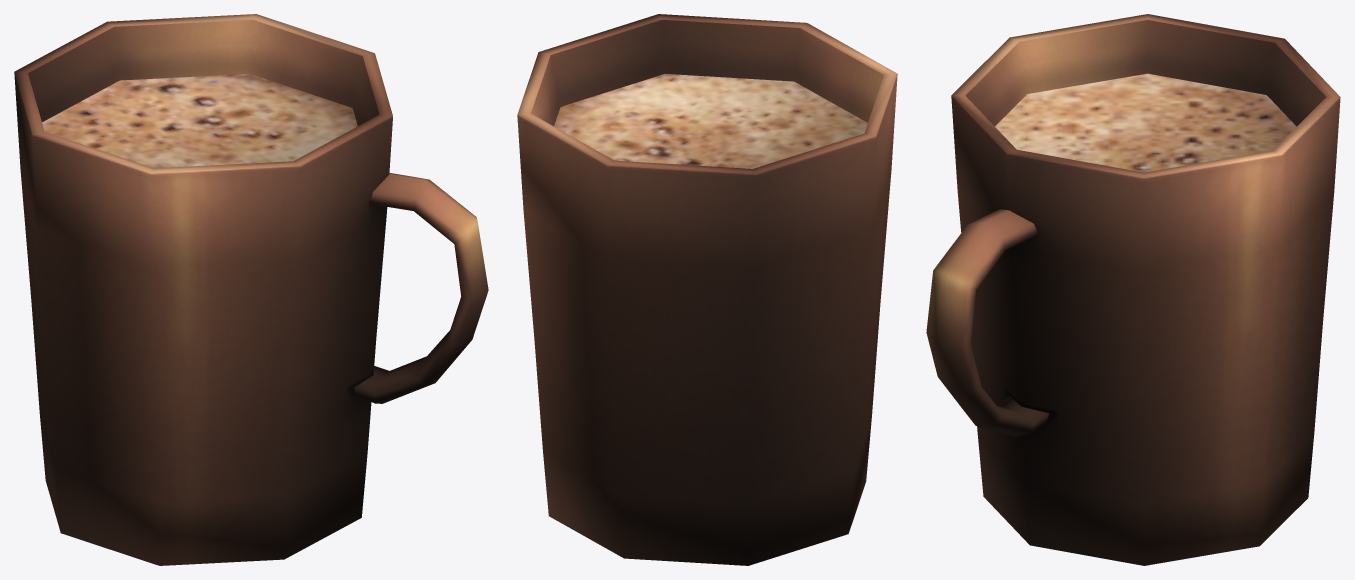
The model's file is BianLiDian_01_makebei_01.FBX.
3 views of the same model, side by side, from view 1: azimuth 30°, elevation 25°; view 2: azimuth 150°, elevation 25°; view 3: azimuth 270°, elevation 25° (orthographic).
Parts seen in each view (by area): view 1: BianLiDian_01_makebei_01; view 2: BianLiDian_01_makebei_01; view 3: BianLiDian_01_makebei_01.
Boxes of the visible parts, x1=… form: BianLiDian_01_makebei_01: x1=14, y1=14, x2=488, y2=565; BianLiDian_01_makebei_01: x1=517, y1=14, x2=897, y2=565; BianLiDian_01_makebei_01: x1=926, y1=14, x2=1340, y2=565.
Bounding box in the file's own units: 33.15 × 35.75 × 33.46.
